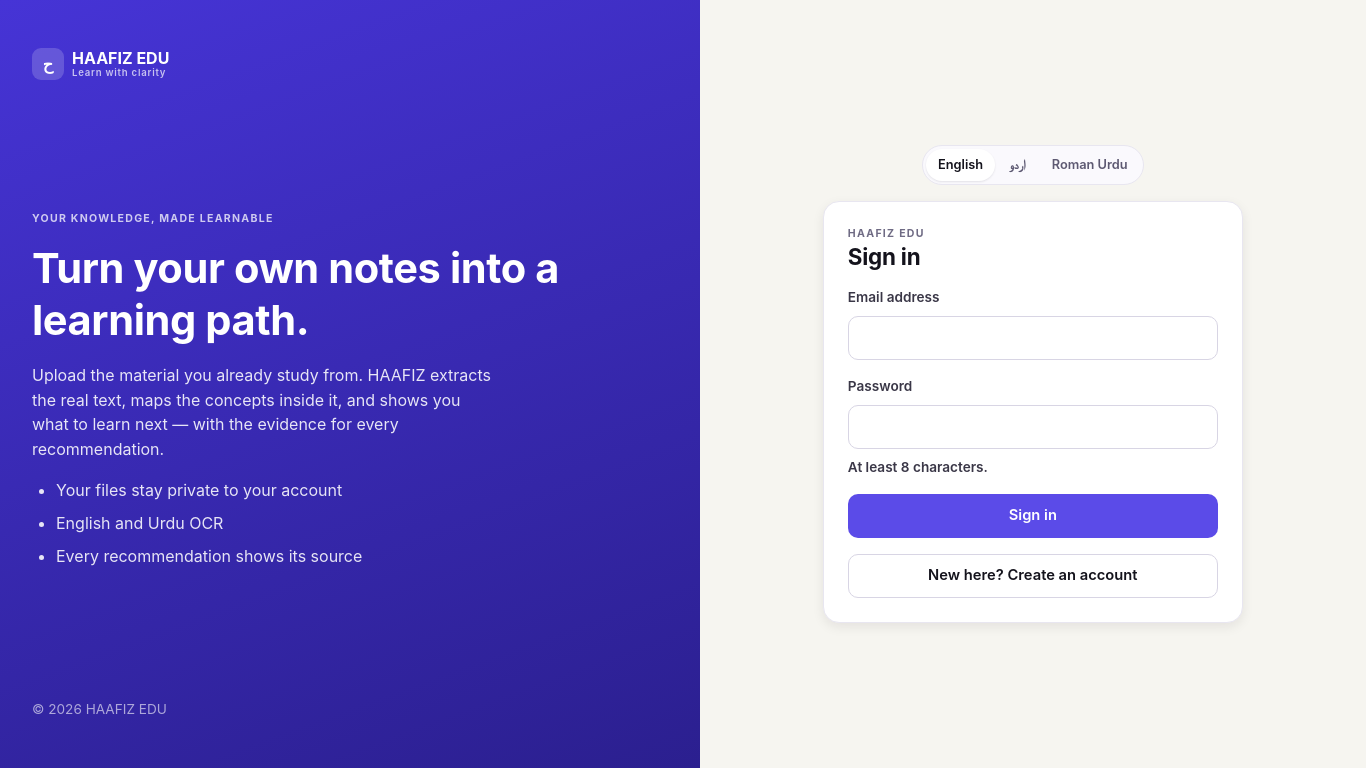
Test: AuthPage — sign in › explains a network failure rather than failing silently
The width and height of the screenshot is (1366, 768).
Type "ayesha@example.com" into the field labelled "Email address" at (1033, 338), box [848,316,1218,360]
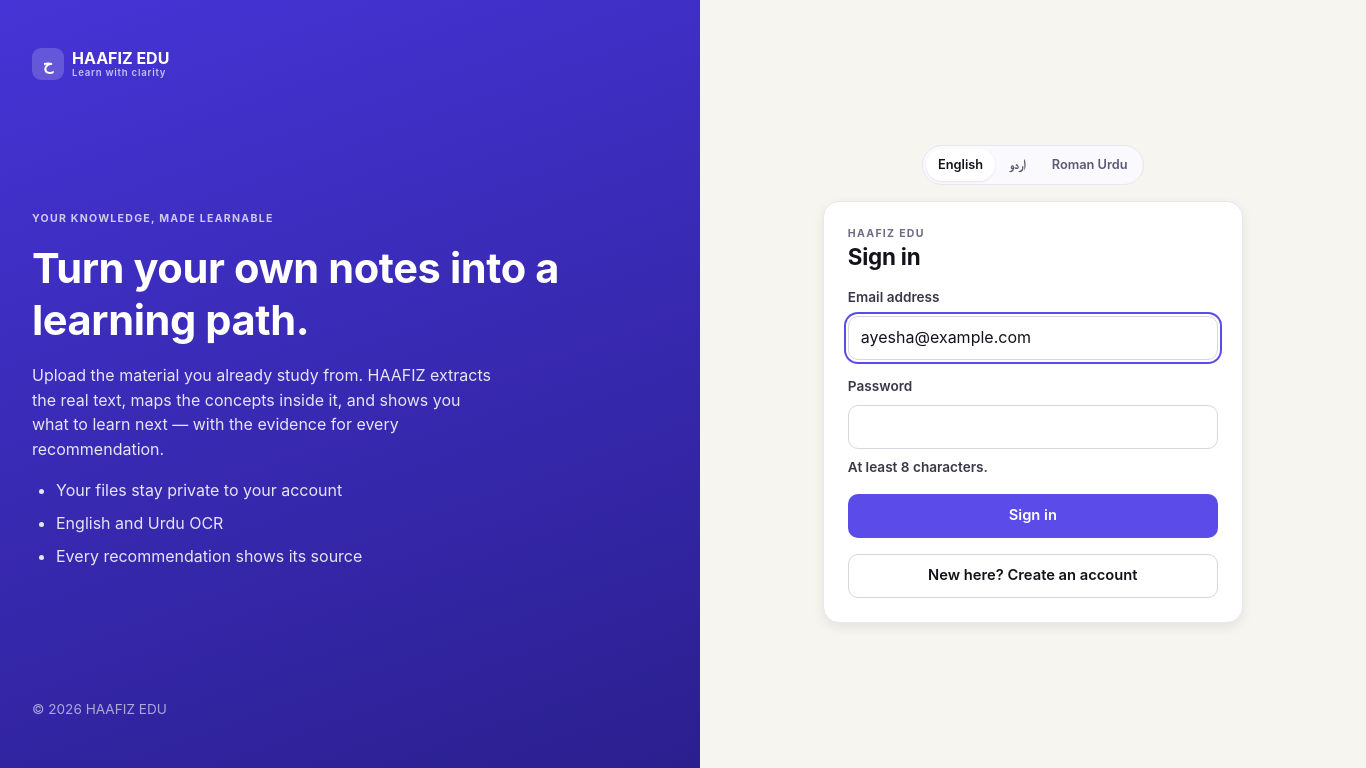
Type "password123" into the password field labelled "Password At least 8 characters." at (1033, 427), box [848,405,1218,449]
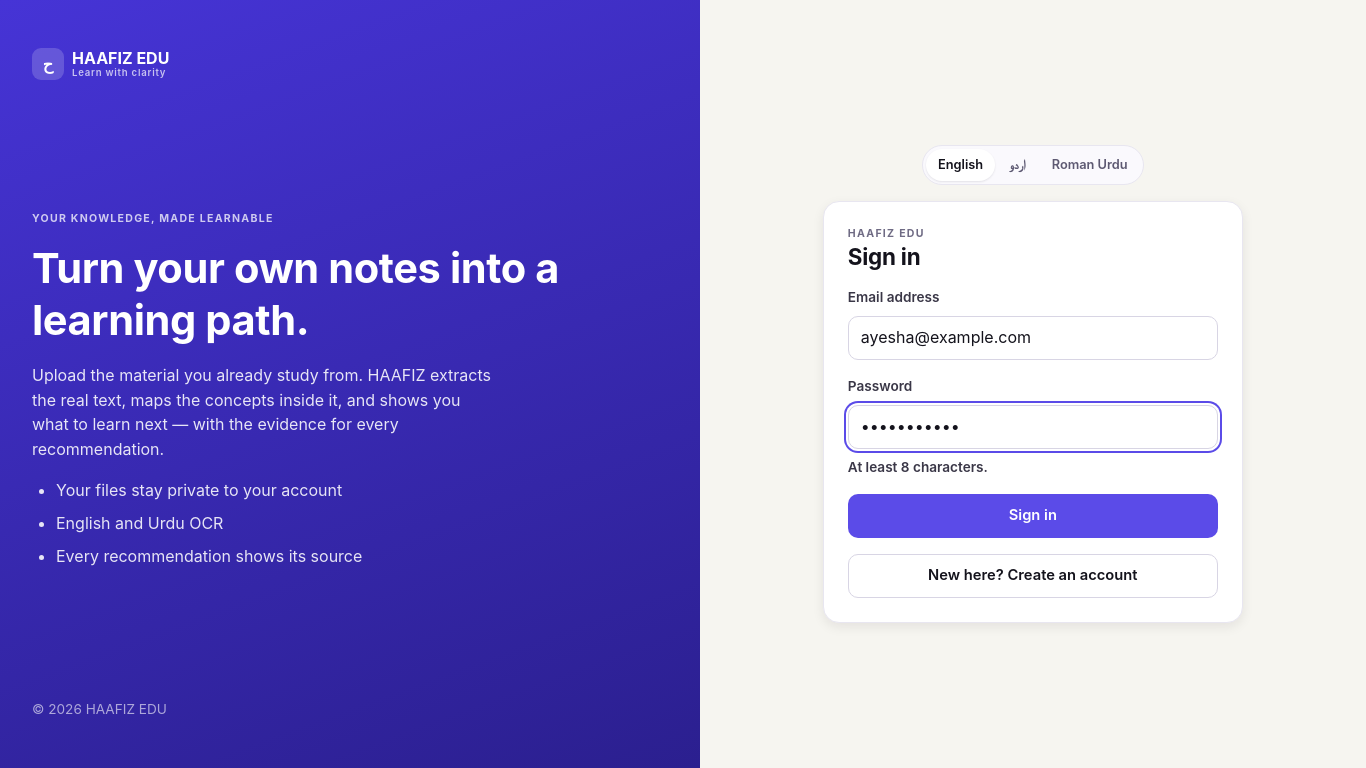
Click the button "Sign in" at (1033, 516), box [848,494,1218,538]
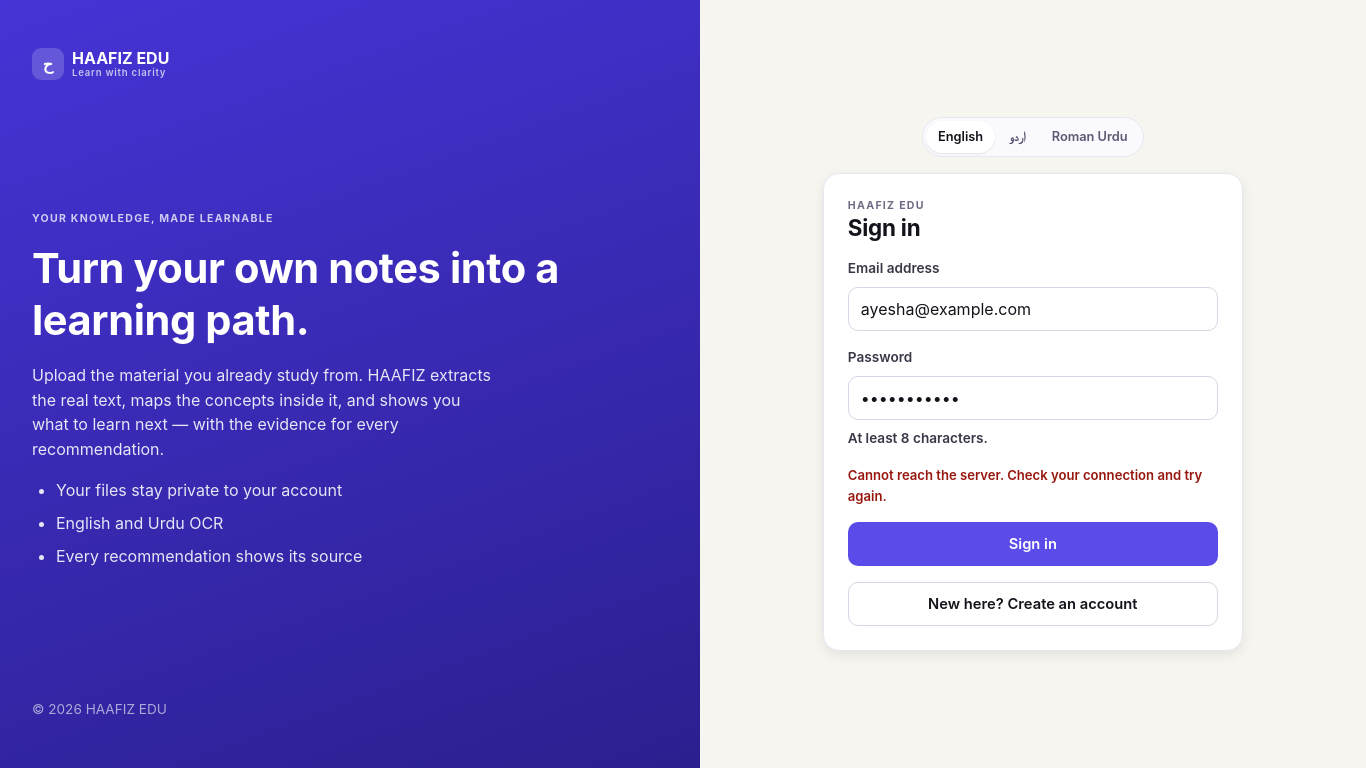
Expected: the text "Cannot reach the server. Check your connection and try again." is shown, [848,465,1218,506]
